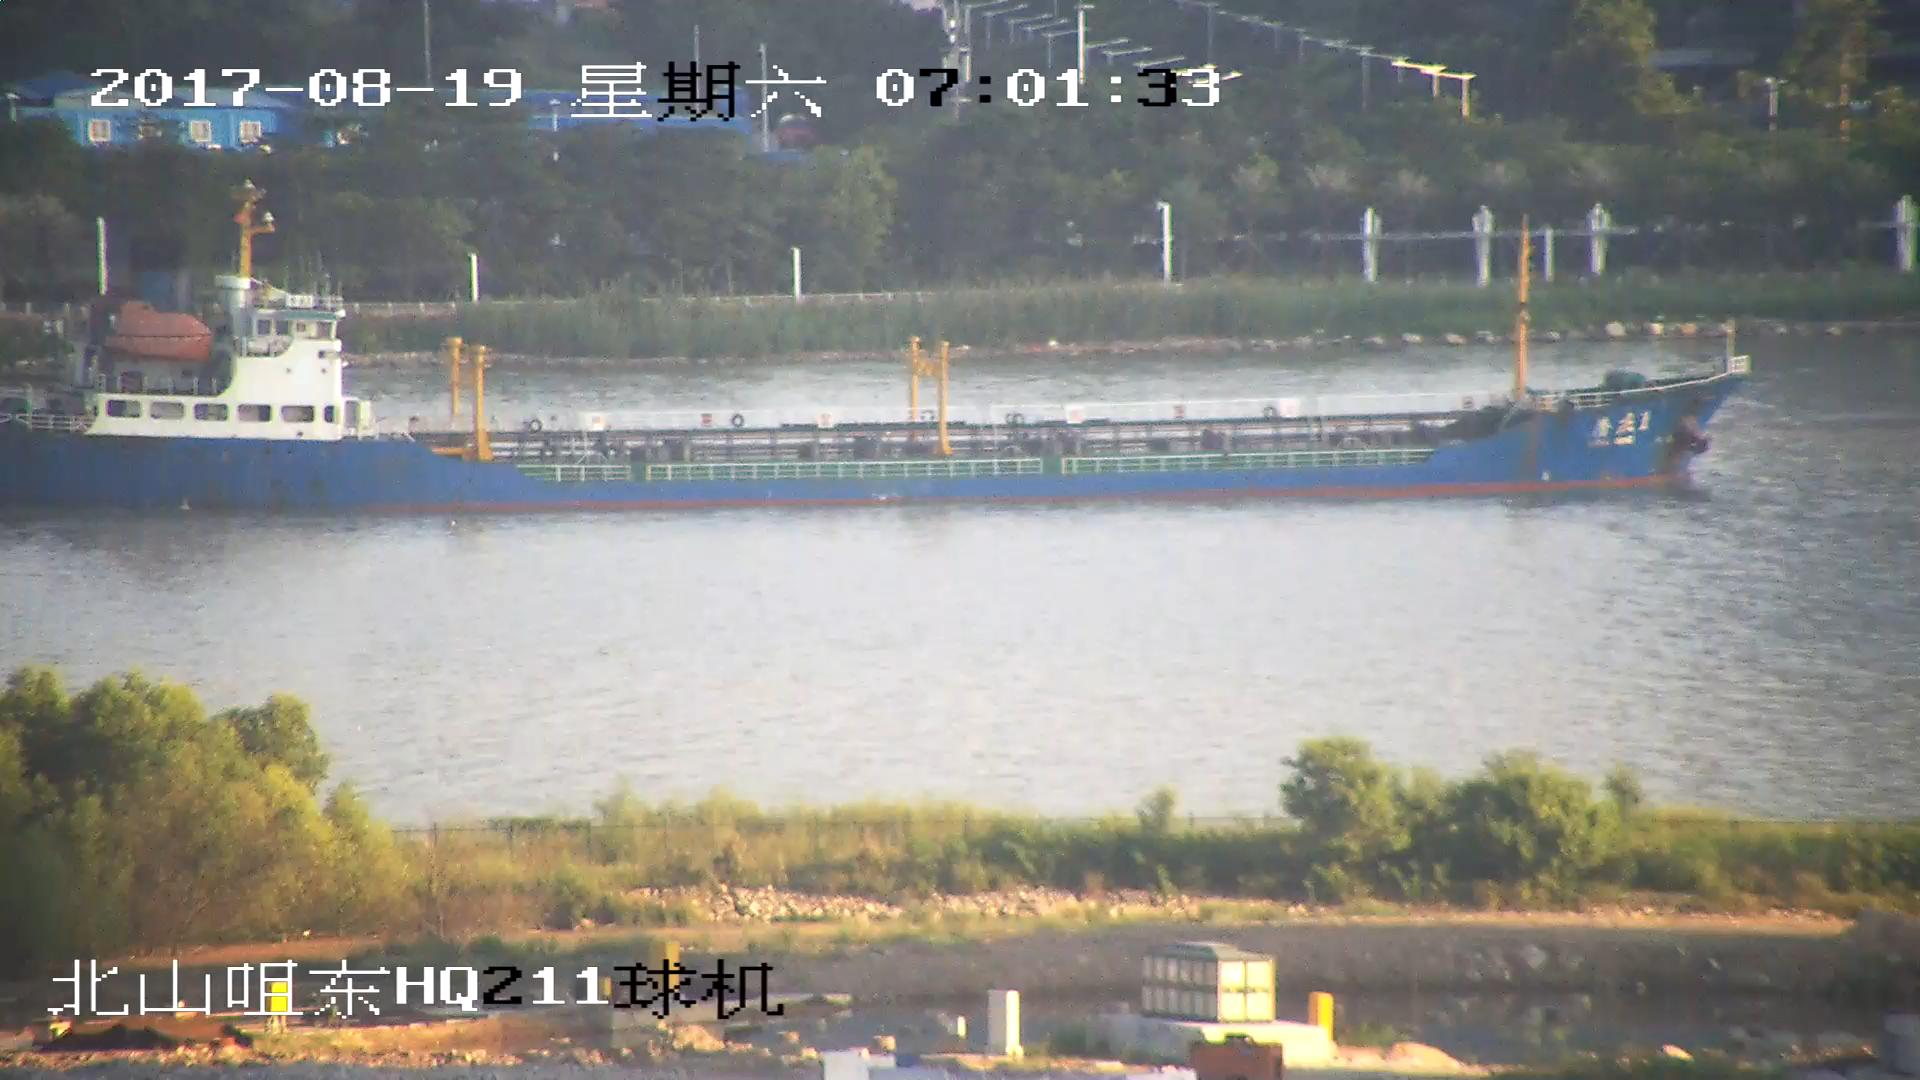general cargo ship: (1, 207, 1741, 496)
